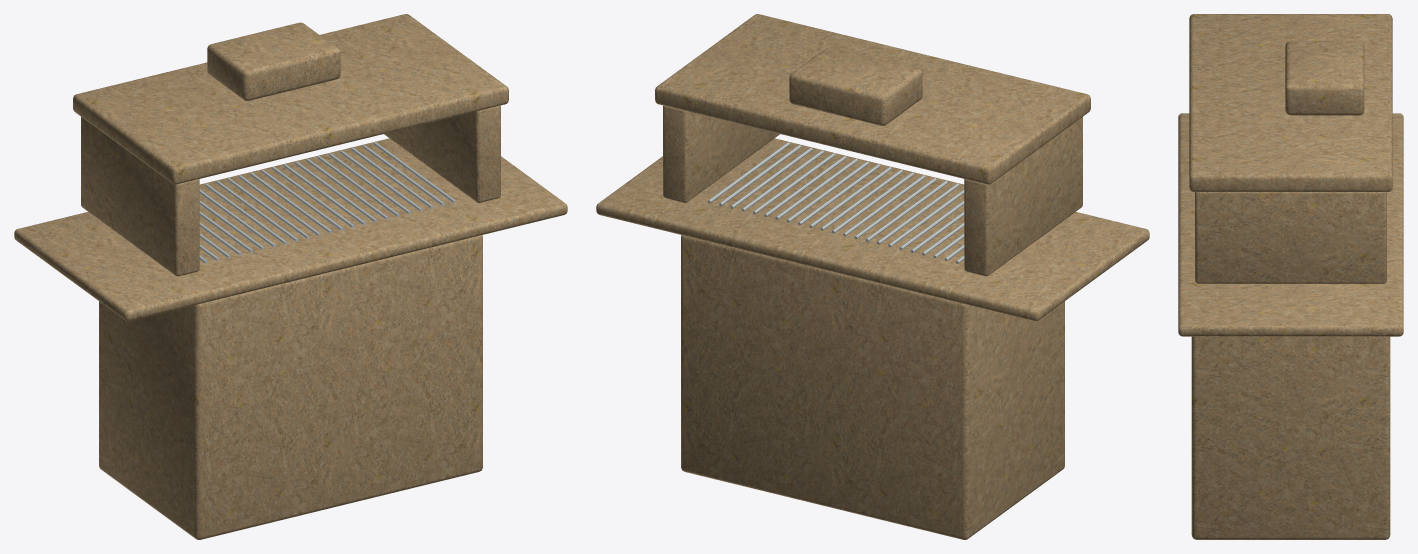
The model's file is barbacoa_obra_grande_base.glb.
The picture shows the model from 3 angles, left to right: view 1: azimuth 30°, elevation 25°; view 2: azimuth 150°, elevation 25°; view 3: azimuth 270°, elevation 25°; orthographic projection.
Parts seen in each view (by area): view 1: barbacoa_obra_grande_base; view 2: barbacoa_obra_grande_base; view 3: barbacoa_obra_grande_base.
Part boxes in pixels (left/top/right/bottom): barbacoa_obra_grande_base: left=14, top=14, right=567, bottom=539; barbacoa_obra_grande_base: left=596, top=14, right=1149, bottom=539; barbacoa_obra_grande_base: left=1178, top=14, right=1403, bottom=539.
Bounding box in the file's own units: 1.8 × 1.6 × 0.7999.
Materials: 2 (1 with a texture image).
